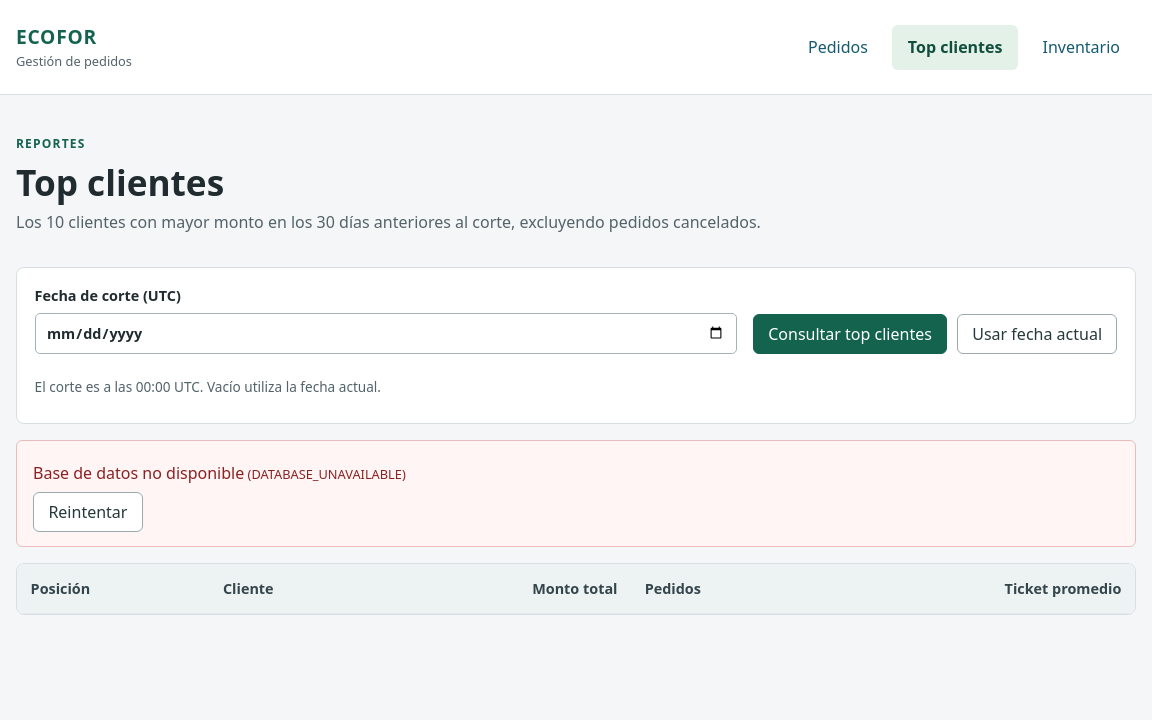
Test: Top clientes › muestra el error de la API y permite reintentar un período sin ventas
This screenshot has width=1152, height=720.
Expected: the message shows "Base de datos no disponible", [33, 462, 244, 484]
Click the button "Reintentar".
click(88, 512)  # box [33, 492, 143, 532]
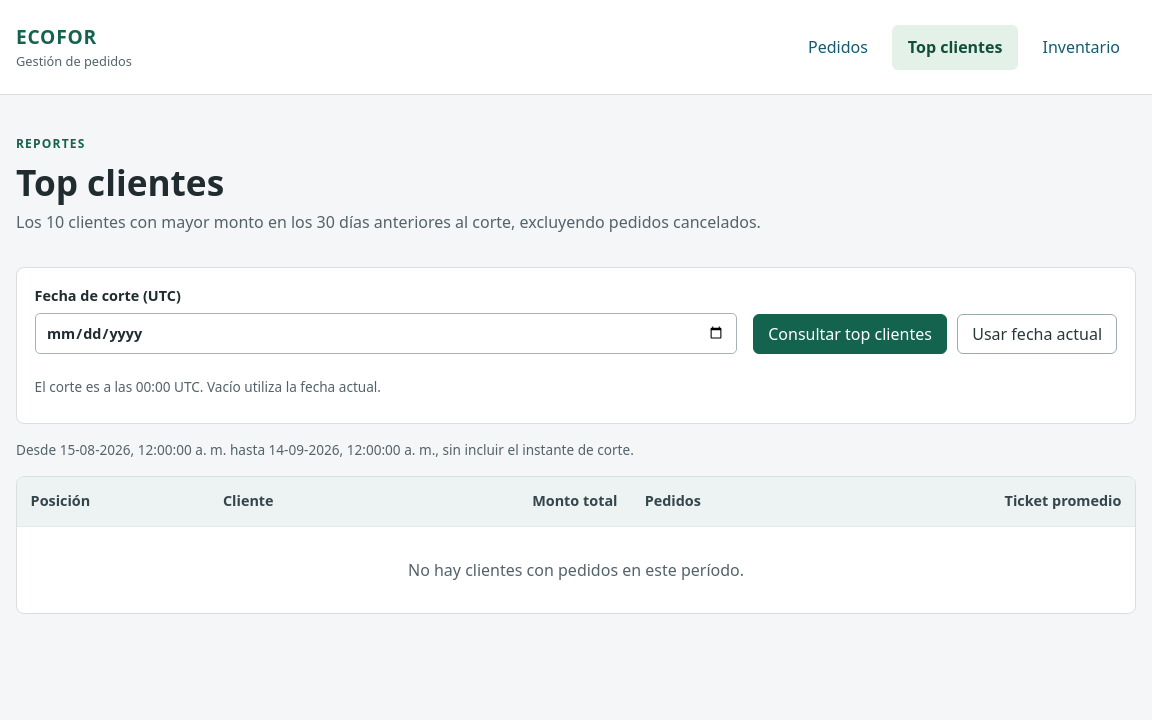
Result: the text "No hay clientes con pedidos en este período." is shown at [408, 559, 744, 581]
Result: the message "Base de datos no disponible(DATABASE_UNAVAILABLE) Reintentar" is gone
